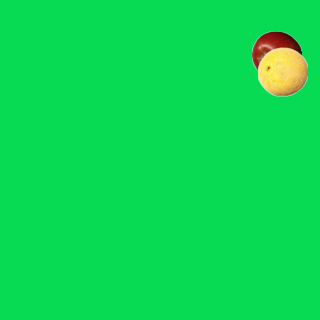Apple Braeburn: (251, 30, 301, 80)
Cantaloupe 1: (257, 46, 307, 96)
